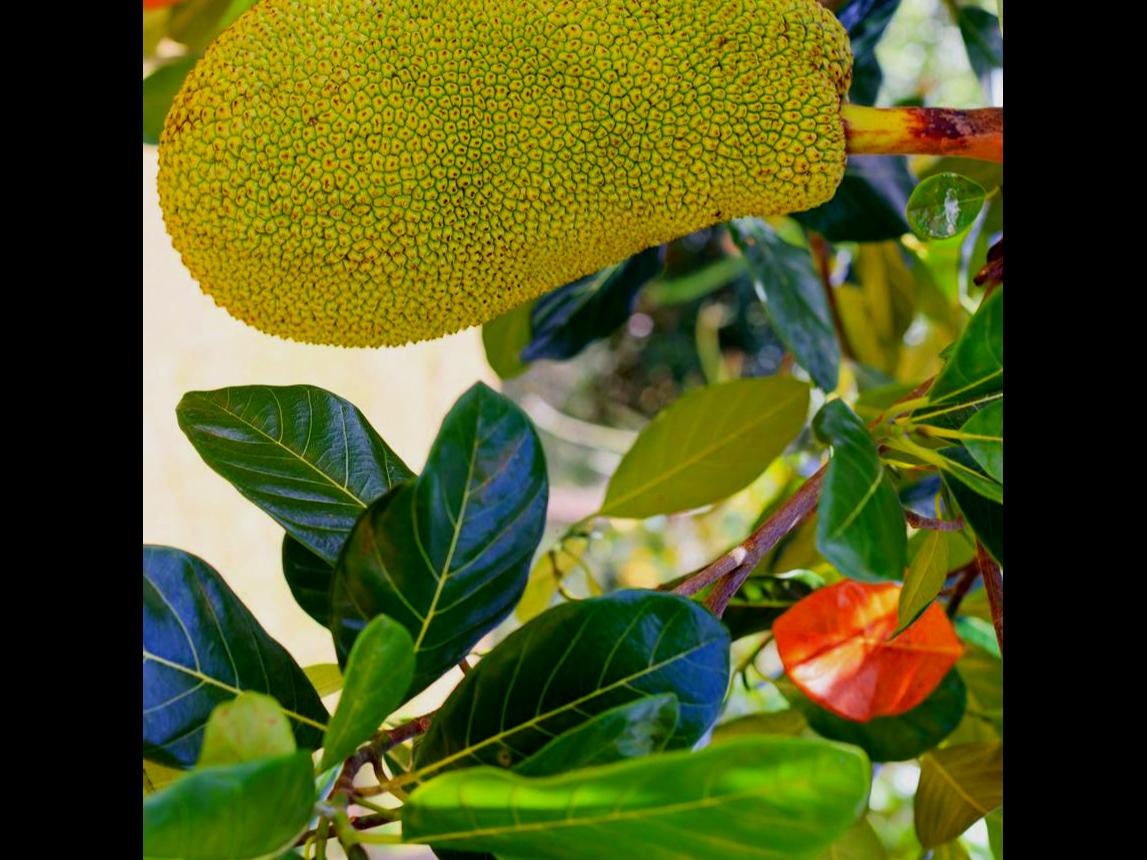mit: (154, 0, 859, 346)
